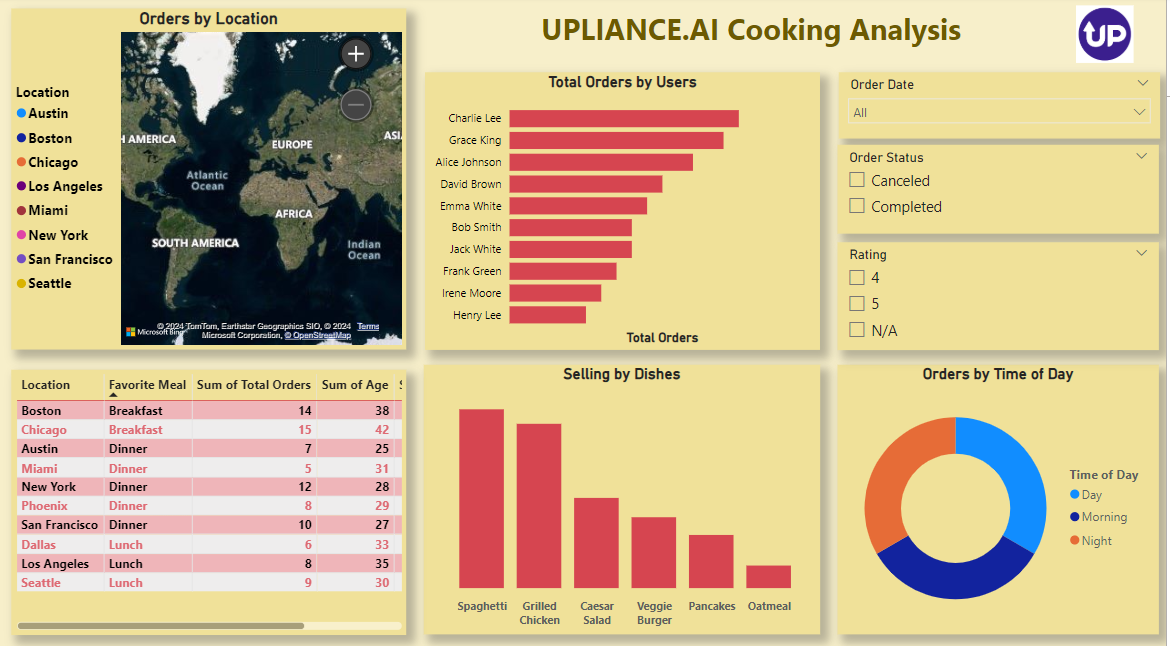

Layout of this report page (visuals, bound fields, positions):
{"tool":"powerbi","page":{"name":"VISUALIZATION ANALYSIS","canvas":[1280,720],"ordinal":0},"visuals":[{"type":"map","title":"Orders by Location","fields":{"Series":["UserDetails csv.Location"],"Size":["CountNonNull(OrderDetails csv.Order ID)"]},"box":[12.3,13.7,433.6,374.6],"z":0},{"type":"barChart","title":"Total Orders by Users","fields":{"Category":["UserDetails csv.User Name"],"Y":["Sum(UserDetails csv.Total Orders)"]},"box":[466.6,83.7,433.6,304.6],"z":1000},{"type":"slicer","fields":{"Values":["OrderDetails csv.Order Date"]},"box":[920.8,83.7,352.7,72.7],"z":2000},{"type":"columnChart","title":"Selling by Dishes","fields":{"Category":["OrderDetails csv.Dish Name"],"Y":["Sum(OrderDetails csv.Amount (USD))"]},"box":[465.2,404.8,435,296.4],"z":3000},{"type":"donutChart","title":"Orders by Time of Day","fields":{"Category":["OrderDetails csv.Time of Day"],"Y":["Sum(UserDetails csv.Total Orders)"]},"box":[919.4,404.8,352.7,296.4],"z":4000},{"type":"tableEx","fields":{"Values":["UserDetails csv.Location","UserDetails csv.Favorite Meal","Sum(UserDetails csv.Total Orders)","Sum(UserDetails csv.Age)","Sum(OrderDetails csv.Amount (USD))"]},"box":[12.3,410.3,433.6,290.9],"z":5000},{"type":"slicer","fields":{"Values":["OrderDetails csv.Order Status"]},"box":[919.4,163.3,352.7,97.4],"z":6000},{"type":"slicer","fields":{"Values":["OrderDetails csv.Rating"]},"box":[919.4,270.3,352.7,118],"z":7000},{"type":"textbox","box":[535.2,9.6,579.1,67.2],"z":8000},{"type":"image","box":[1154,5.5,118,72.7],"z":9000}]}

Visuals, with their boxes in screenshot pixels (x1, y1, x2, y2), scaled from the page's 1280x720 canvas onto the 1170x646 screenshot:
"Orders by Location" map: bbox=(11, 12, 408, 348)
"Total Orders by Users" barChart: bbox=(427, 75, 823, 348)
slicer - OrderDetails csv.Order Date: bbox=(842, 75, 1164, 140)
"Selling by Dishes" columnChart: bbox=(425, 363, 823, 629)
"Orders by Time of Day" donutChart: bbox=(840, 363, 1163, 629)
tableEx - UserDetails csv.Location x UserDetails csv.Favorite Meal: bbox=(11, 368, 408, 629)
slicer - OrderDetails csv.Order Status: bbox=(840, 147, 1163, 234)
slicer - OrderDetails csv.Rating: bbox=(840, 243, 1163, 348)
textbox: bbox=(489, 9, 1019, 69)
image: bbox=(1055, 5, 1163, 70)
